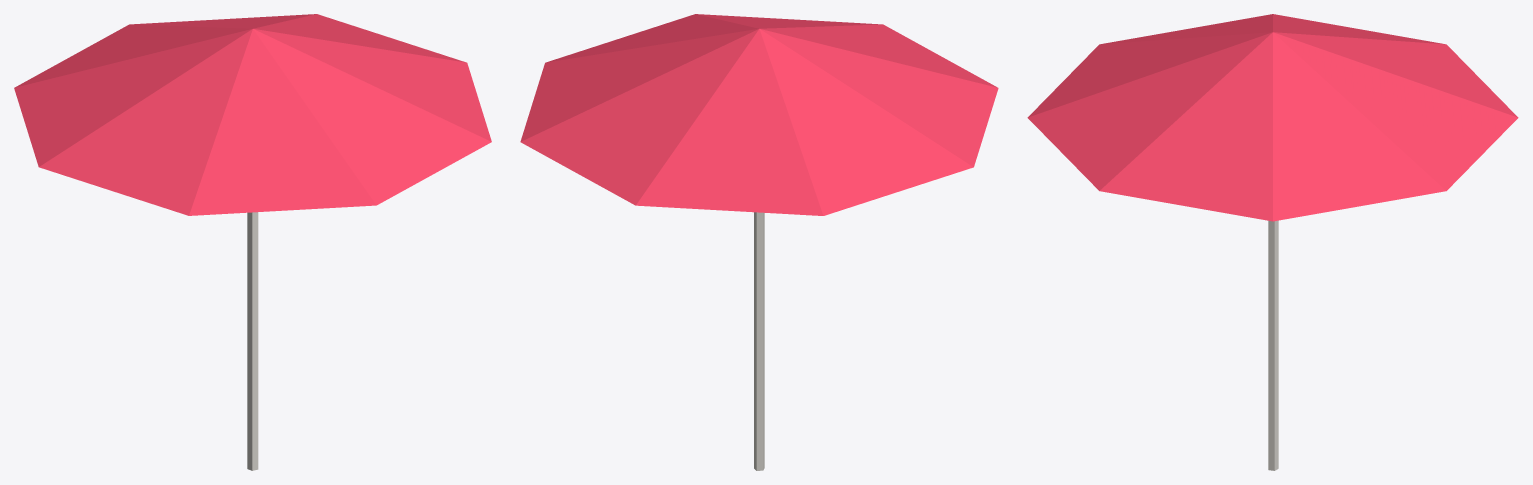
Rendered from Surfing_Umbrella.fbx.
3 views of the same model, side by side, from view 1: azimuth 30°, elevation 25°; view 2: azimuth 150°, elevation 25°; view 3: azimuth 270°, elevation 25° (orthographic).
Visible parts, largest first — view 1: Umbrella; view 2: Umbrella; view 3: Umbrella.
Boxes of the visible parts, x1,y1,x2,y2 form: Umbrella: [14, 14, 491, 470]; Umbrella: [520, 14, 998, 470]; Umbrella: [1027, 14, 1518, 470].
Size of the model in its own units: 2.6 by 2.55 by 2.6.
